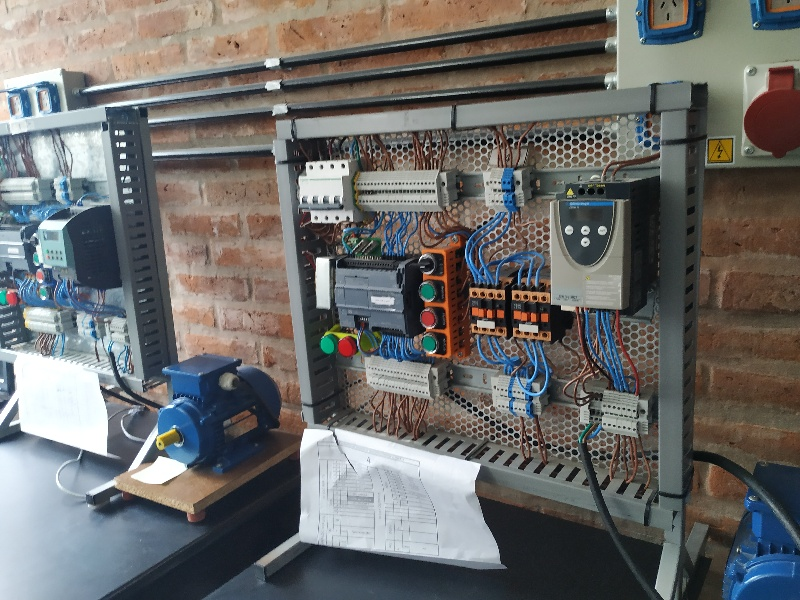Tablero 4: (283, 128, 678, 490)
